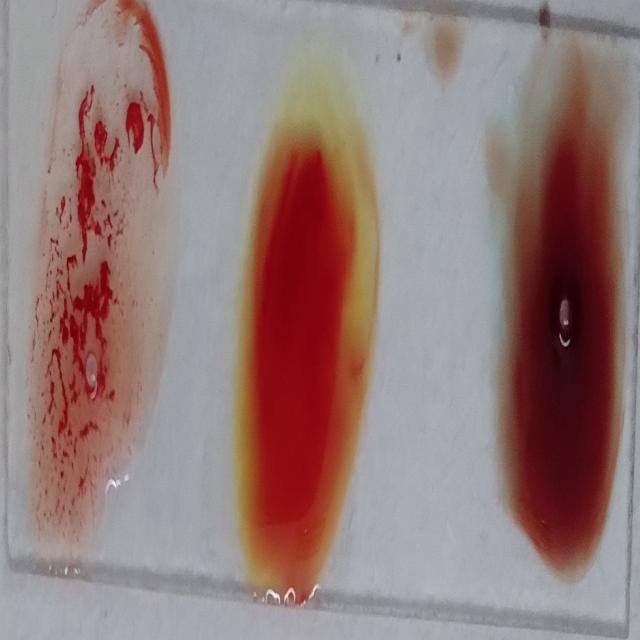D: (30, 4, 176, 548)
